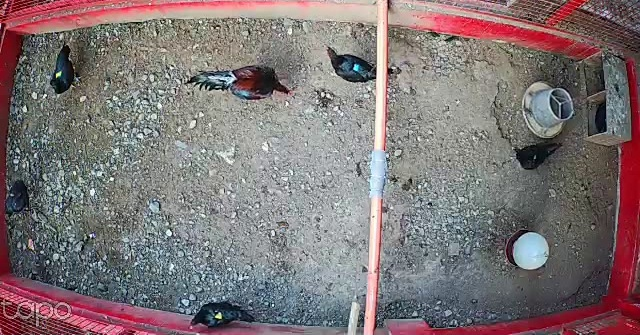Chicken: (323, 44, 393, 83), (187, 297, 256, 329), (48, 42, 87, 98), (511, 136, 563, 172), (4, 178, 39, 218)
Rooster: (182, 62, 294, 103)
Saddle_Color_Blue: (352, 64, 359, 72)
Saddle_Color_Yellow: (212, 311, 224, 320)
